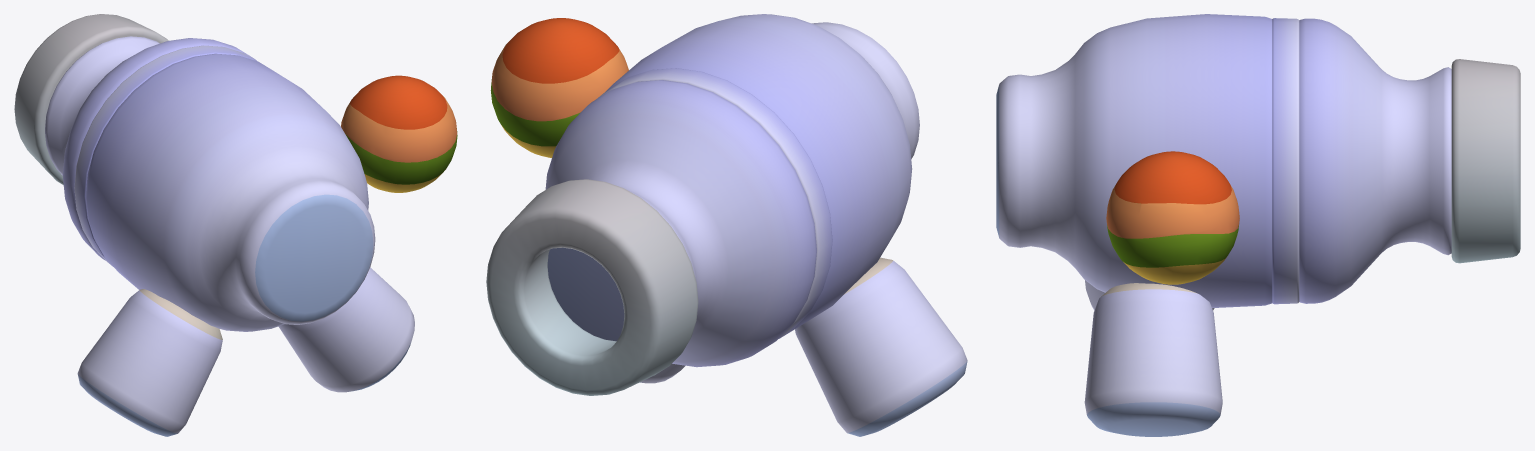
File: feature_super_gun.fbx
The picture shows the model from 3 angles, left to right: view 1: azimuth 30°, elevation 25°; view 2: azimuth 150°, elevation 25°; view 3: azimuth 270°, elevation 25°; orthographic projection. The views are drawn at different scales.
Visible parts, largest first — view 1: super_gun_2, super_gun_6, super_gun_3, super_gun_5, super_gun_9, super_gun_8, super_gun_4, super_gun_1, super_gun_7; view 2: super_gun_3, super_gun_2, super_gun_5, super_gun_6, super_gun_4, super_gun_8, super_gun_9, super_gun_1; view 3: super_gun_2, super_gun_3, super_gun_6, super_gun_5, super_gun_4, super_gun_8, super_gun_9, super_gun_1, super_gun_7.
Boxes of the visible parts, left/top/right/bottom form: super_gun_2: left=85, top=53, right=375, bottom=331; super_gun_6: left=77, top=267, right=414, bottom=436; super_gun_3: left=45, top=36, right=256, bottom=260; super_gun_5: left=14, top=14, right=168, bottom=184; super_gun_9: left=341, top=96, right=457, bottom=162; super_gun_8: left=350, top=75, right=447, bottom=129; super_gun_4: left=74, top=45, right=255, bottom=266; super_gun_1: left=345, top=128, right=457, bottom=184; super_gun_7: left=364, top=168, right=446, bottom=192; super_gun_3: left=545, top=80, right=816, bottom=367; super_gun_2: left=606, top=14, right=919, bottom=338; super_gun_5: left=486, top=179, right=698, bottom=395; super_gun_6: left=640, top=257, right=967, bottom=436; super_gun_4: left=597, top=68, right=832, bottom=337; super_gun_8: left=502, top=18, right=619, bottom=83; super_gun_9: left=491, top=43, right=628, bottom=121; super_gun_1: left=490, top=79, right=580, bottom=146; super_gun_2: left=996, top=14, right=1272, bottom=307; super_gun_3: left=1299, top=18, right=1451, bottom=303; super_gun_6: left=1084, top=280, right=1222, bottom=436; super_gun_5: left=1451, top=59, right=1520, bottom=263; super_gun_4: left=1272, top=18, right=1299, bottom=304; super_gun_8: left=1114, top=151, right=1231, bottom=204; super_gun_9: left=1106, top=185, right=1239, bottom=238; super_gun_1: left=1107, top=225, right=1238, bottom=267; super_gun_7: left=1123, top=256, right=1227, bottom=284.
Bounding box in the file's own units: 178 × 145 × 191.
1 material, 1 textured.
